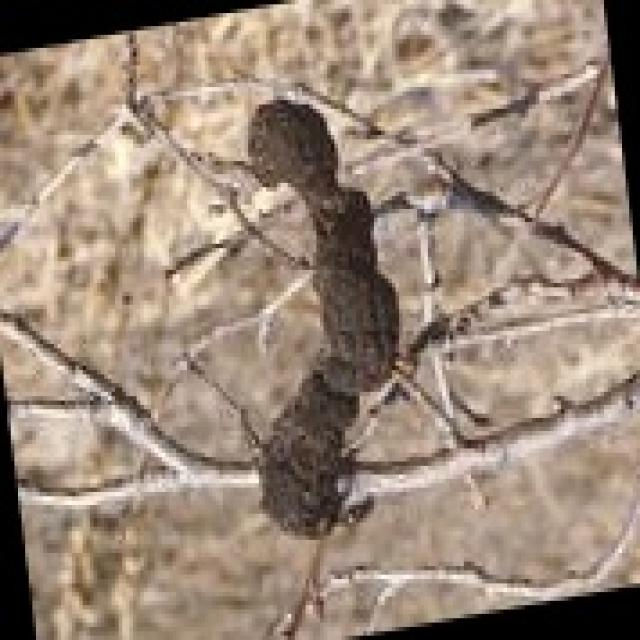Black_knot: (237, 87, 403, 540)
